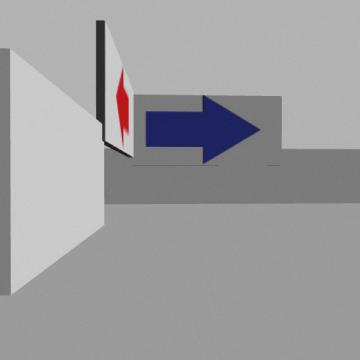blue_right: (147, 96, 260, 163)
red_left: (116, 70, 128, 142)
